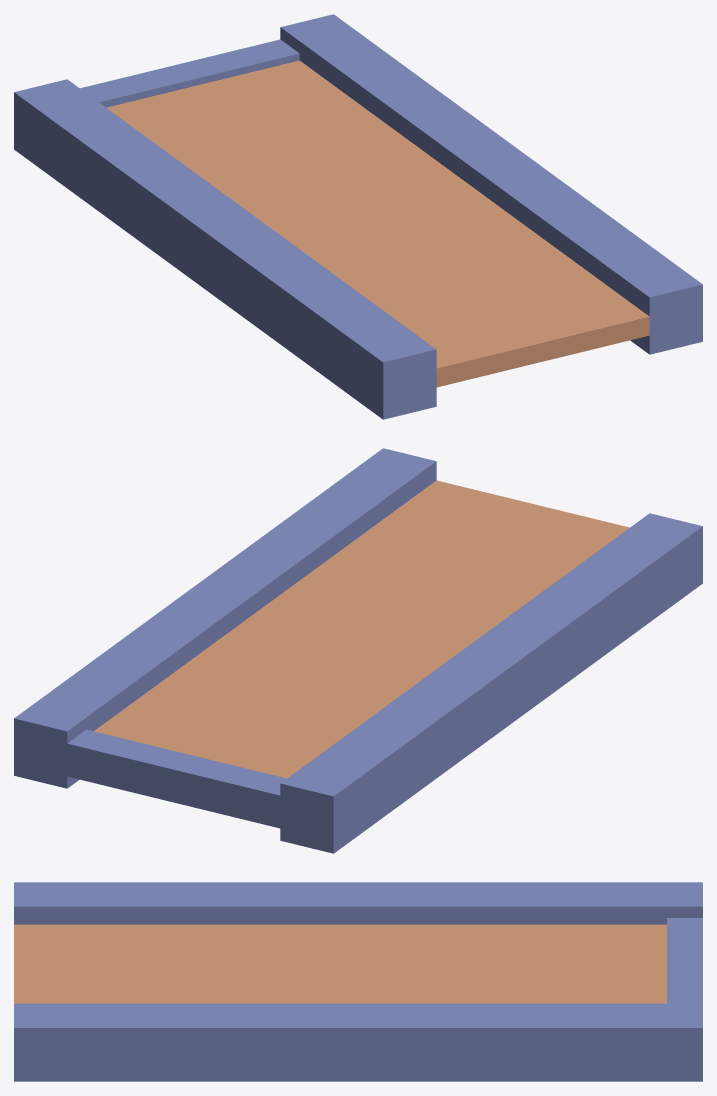
The model's file is bridge_2d_3.fbx.
3 views of the same model, one above another, from view 1: azimuth 30°, elevation 25°; view 2: azimuth 150°, elevation 25°; view 3: azimuth 270°, elevation 25° (orthographic). The views are drawn at different scales.
Parts seen in each view (by area): view 1: bridge_2d_3; view 2: bridge_2d_3; view 3: bridge_2d_3.
Boxes of the visible parts, x1=… form: bridge_2d_3: x1=14, y1=14, x2=702, y2=419; bridge_2d_3: x1=14, y1=448, x2=702, y2=853; bridge_2d_3: x1=14, y1=882, x2=702, y2=1081.
Bounding box in the file's own units: 9.6 × 1.64 × 19.2.
